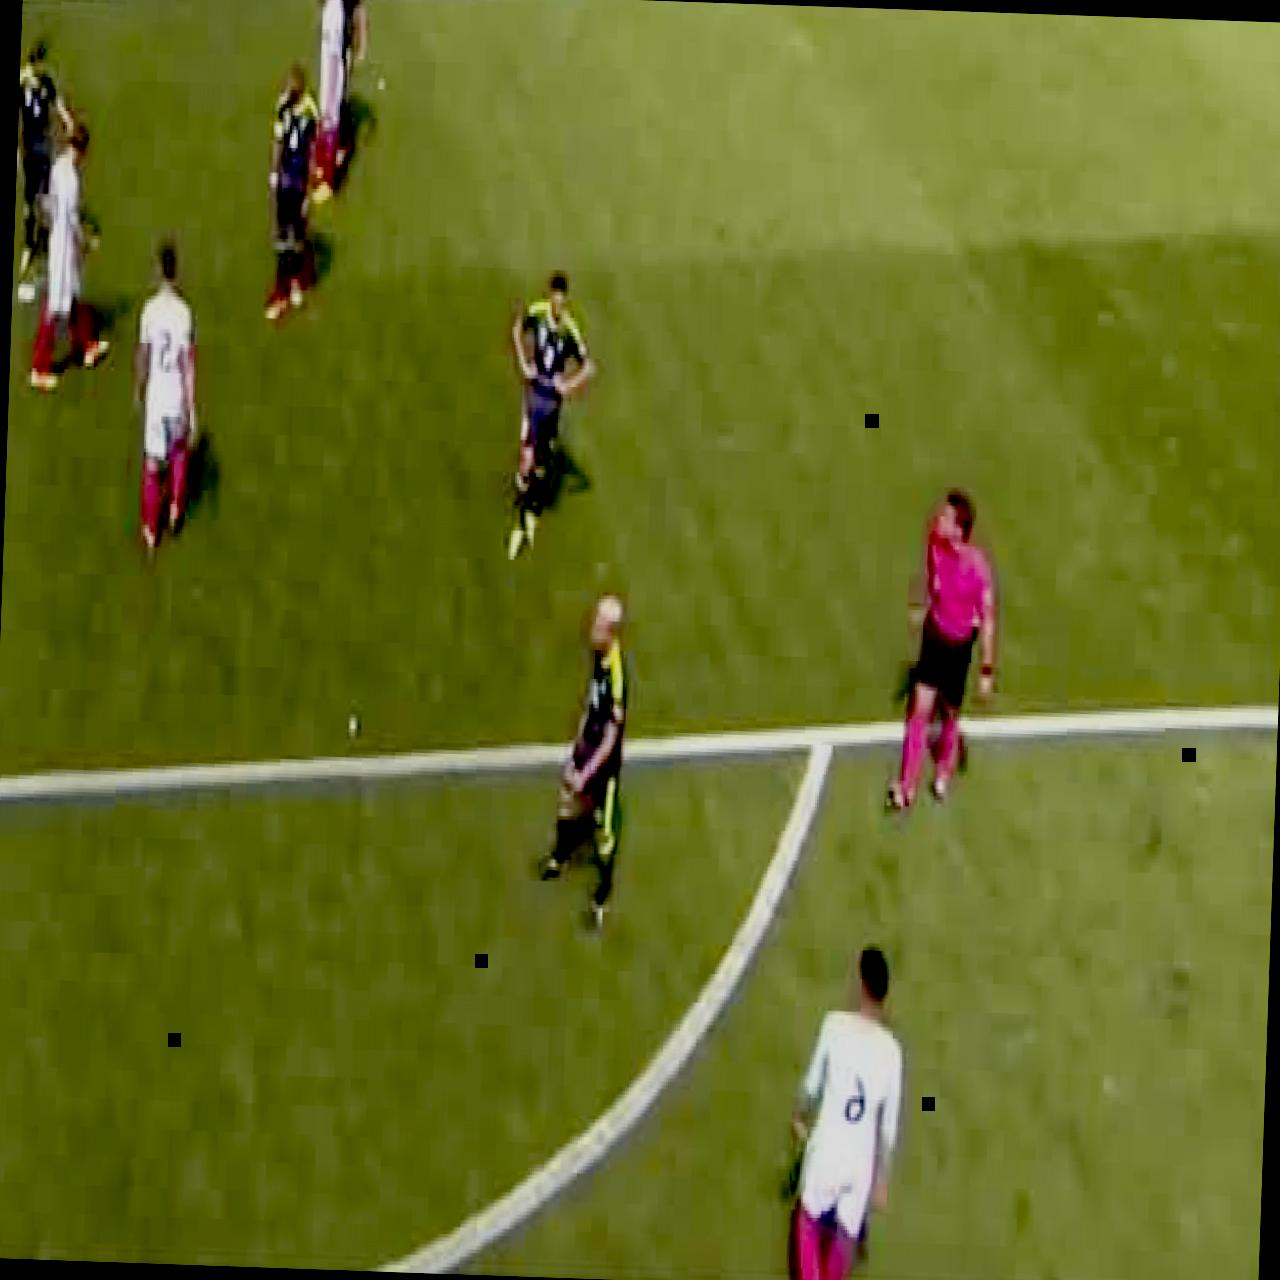football: (783, 936, 910, 1280), (885, 486, 1000, 812), (536, 589, 633, 925), (500, 271, 600, 562), (27, 118, 116, 398), (130, 240, 202, 552), (12, 43, 78, 285), (264, 64, 324, 318), (319, 0, 370, 161), (308, 0, 345, 196)
